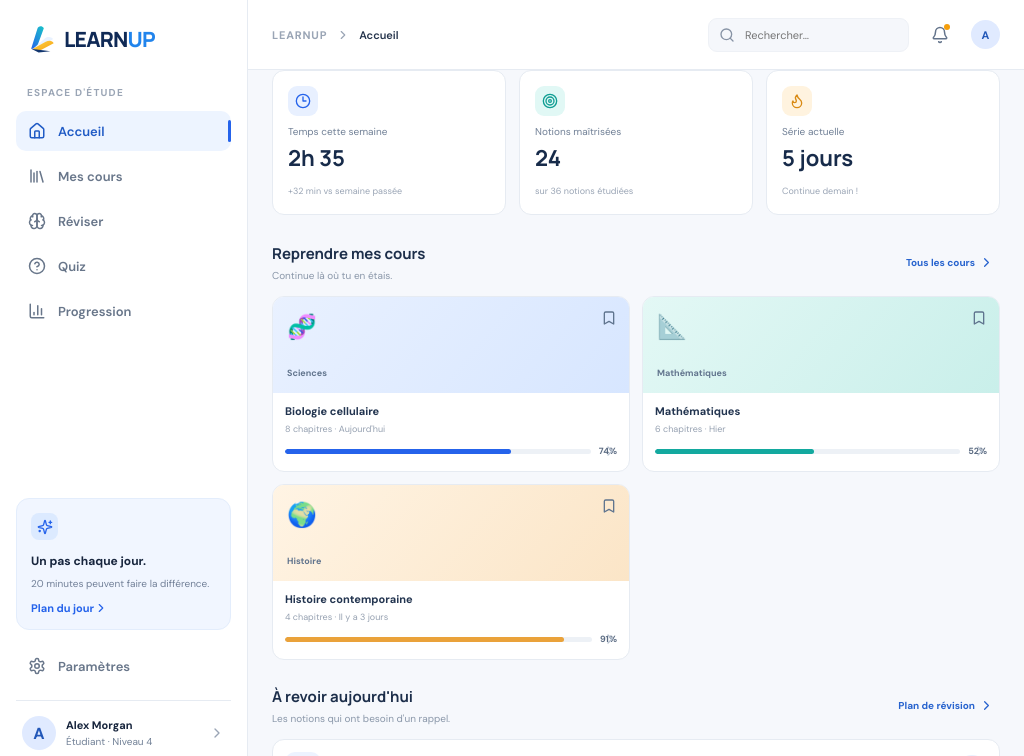
Test case: LEARNUP study behavior › opens course details and launches a course quiz in demo mode
(page scrolled)
Click the button "🧬 Sciences Biologie cellulaire 8 chapitres · Aujourd'hui 74%".
click(451, 384)  # box [272,296,630,472]
(page scrolled)
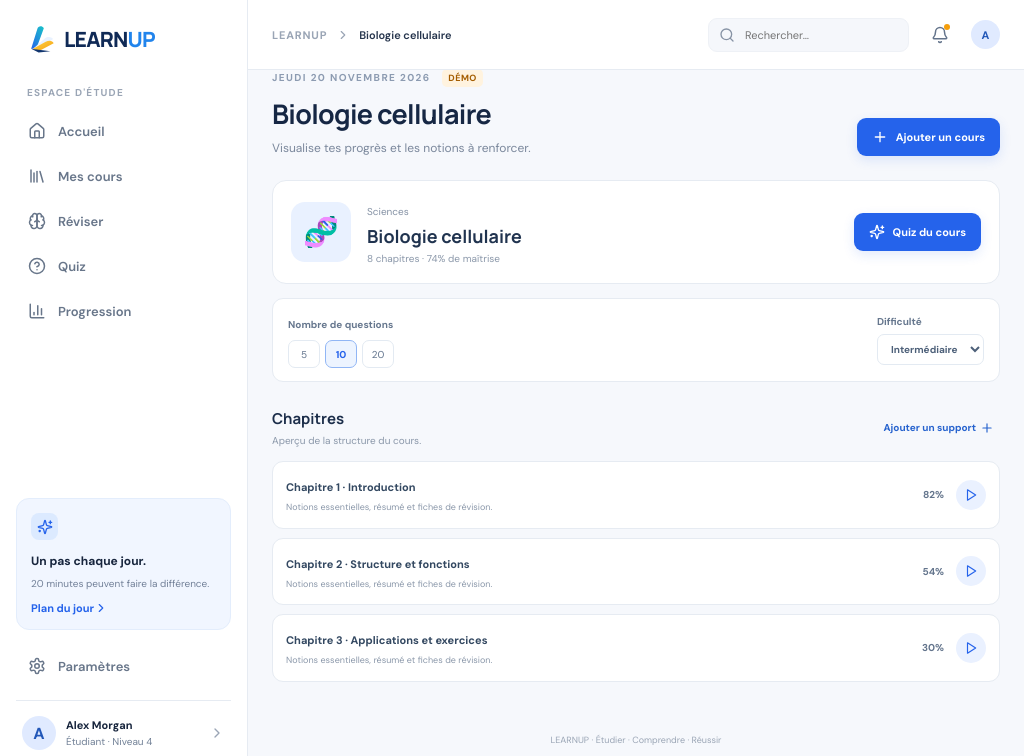
Check: the heading "Biologie cellulaire" below "DÉMO" is shown, box [272,95,491,132]
Click the button "Quiz du cours".
click(917, 232)  # box [854,213,981,251]
(page scrolled)
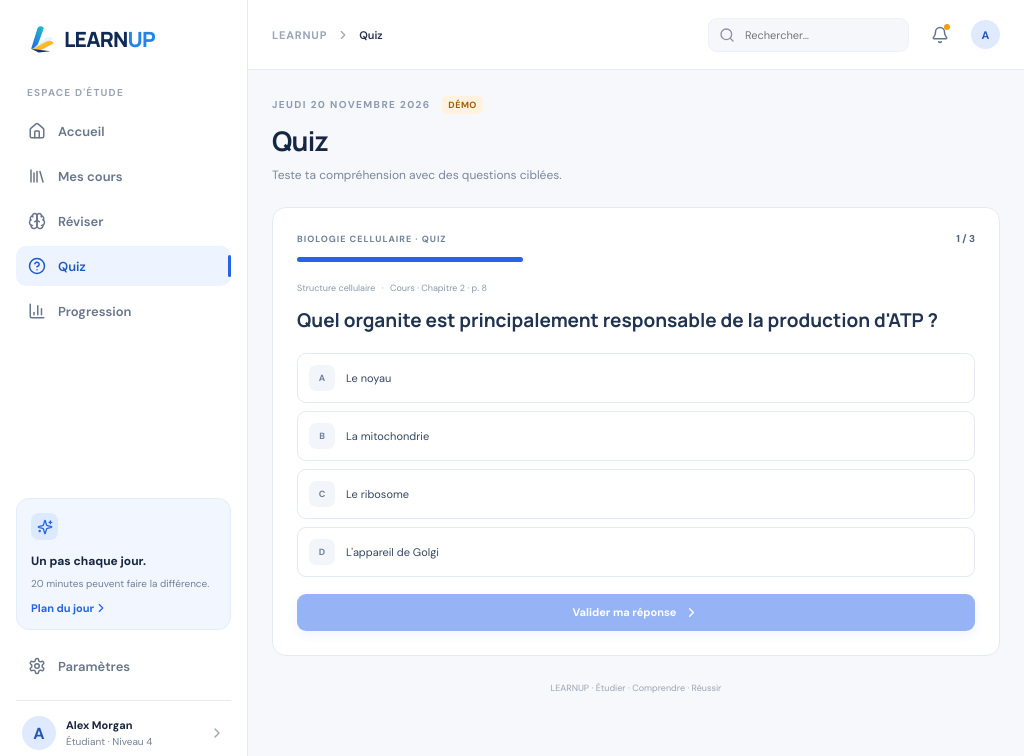
Check: the text "BIOLOGIE CELLULAIRE · QUIZ" is shown, box [297,232,446,244]
